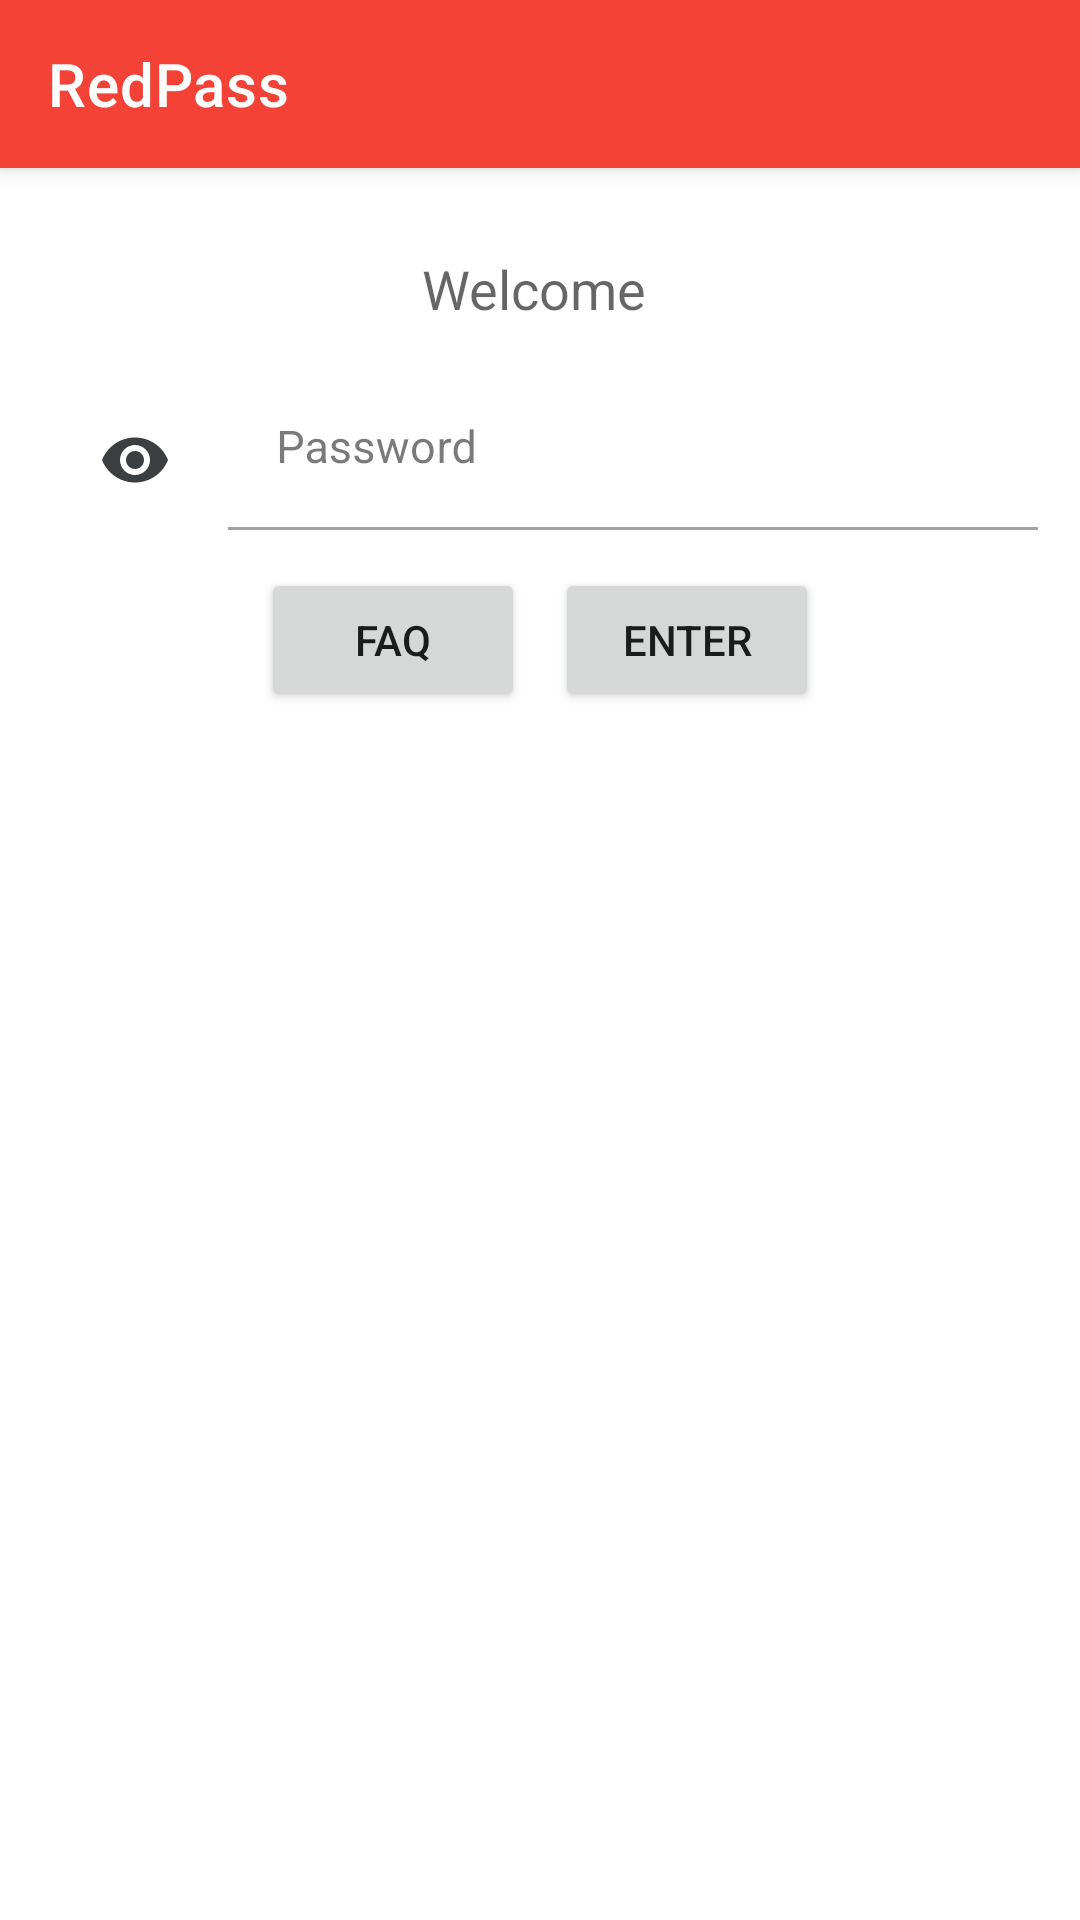

Where to tap for icons on this 1080w x 1920h app screen, as [x,y]:
show: [135,460]
